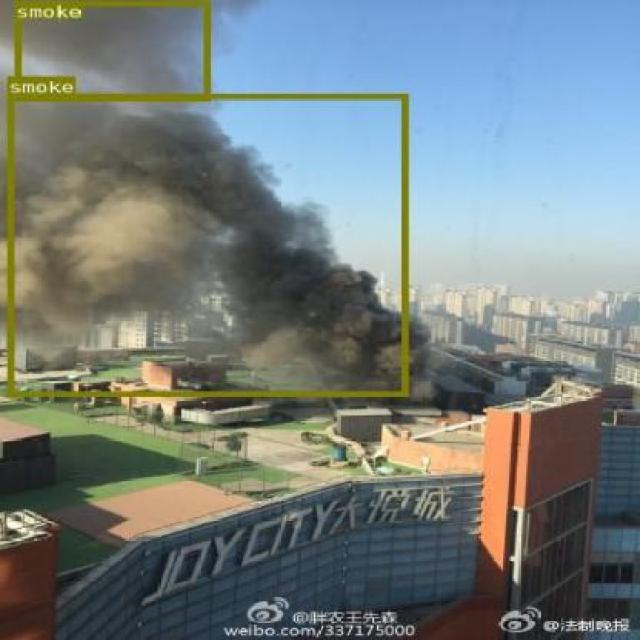Smoke: (6, 93, 408, 396), (13, 0, 210, 100)
